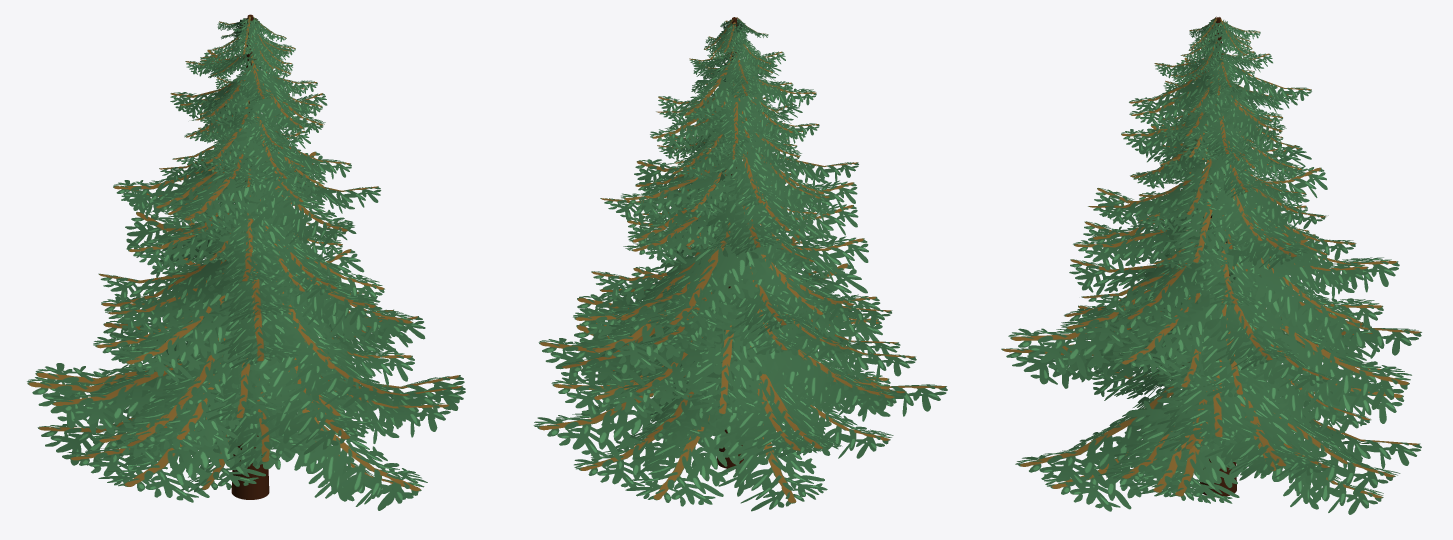
File: Tree.fbx
3 views of the same model, side by side, from view 1: azimuth 30°, elevation 25°; view 2: azimuth 150°, elevation 25°; view 3: azimuth 270°, elevation 25° (orthographic). The views are drawn at different scales.
Parts seen in each view (by area): view 1: PineLeaves.088, PineLeaves.100, PineLeaves.082, PineLeaves.098, PineLeaves.011, PineLeaves.015, PineLeaves.103, PineLeaves.115, PineLeaves.109, PineLeaves.030, PineLeaves.085, PineLeaves.024 (+55 smaller); view 2: PineLeaves.101, PineLeaves.083, PineLeaves.007, PineLeaves.016, PineLeaves.098, PineLeaves.001, PineLeaves.092, PineLeaves.095, PineLeaves.086, PineLeaves.004, PineLeaves.096, PineLeaves.027 (+49 smaller); view 3: PineLeaves.096, PineLeaves.088, PineLeaves.017, PineLeaves.084, PineLeaves.099, PineLeaves.011, PineLeaves.105, PineLeaves.092, PineLeaves.005, PineLeaves.026, PineLeaves.014, PineLeaves.001 (+53 smaller).
Part boxes in pixels (x1,y1,x2,y2): PineLeaves.088: (255,400,427,510); PineLeaves.100: (111,285,253,382); PineLeaves.082: (98,394,295,502); PineLeaves.098: (47,343,254,434); PineLeaves.011: (234,309,397,407); PineLeaves.015: (225,322,375,454); PineLeaves.103: (203,274,306,368); PineLeaves.115: (248,172,354,246); PineLeaves.109: (168,164,277,230); PineLeaves.030: (205,213,292,287); PineLeaves.085: (215,369,314,469); PineLeaves.024: (223,274,347,377); PineLeaves.101: (647,230,780,329); PineLeaves.083: (625,405,748,506); PineLeaves.007: (686,393,827,511); PineLeaves.016: (676,286,778,416); PineLeaves.098: (740,332,899,416); PineLeaves.001: (533,375,736,460); PineLeaves.092: (578,277,759,371); PineLeaves.095: (698,346,842,457); PineLeaves.086: (693,355,823,455); PineLeaves.004: (630,329,777,440); PineLeaves.096: (556,312,745,386); PineLeaves.027: (734,232,829,324); PineLeaves.096: (1238,300,1411,409); PineLeaves.088: (1015,379,1173,489); PineLeaves.017: (1170,367,1314,475); PineLeaves.084: (1159,343,1277,440); PineLeaves.099: (1104,290,1246,376); PineLeaves.011: (1008,300,1198,377); PineLeaves.105: (1227,238,1361,339); PineLeaves.092: (1236,264,1421,360); PineLeaves.005: (1119,375,1246,503); PineLeaves.026: (1190,293,1294,370); PineLeaves.014: (1131,387,1258,503); PineLeaves.001: (1251,388,1400,495).
Bounding box in the file's own units: 394 × 443 × 383.
